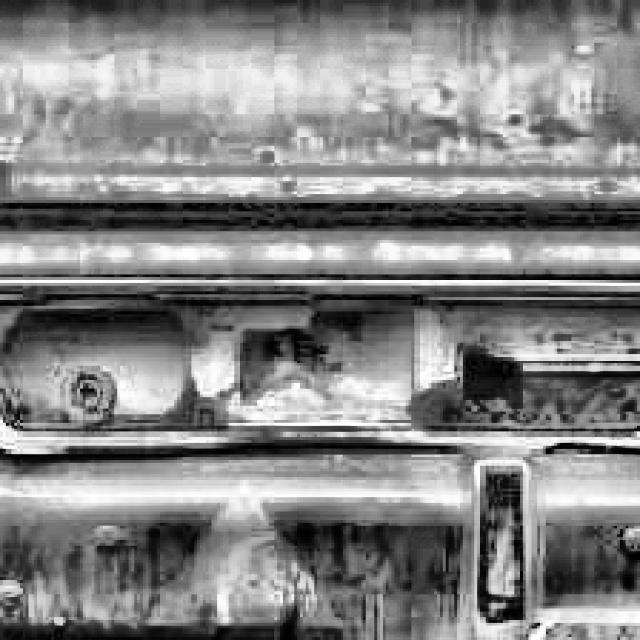tail_lamp: (190, 307, 442, 428), (9, 302, 192, 431), (445, 333, 540, 430)
